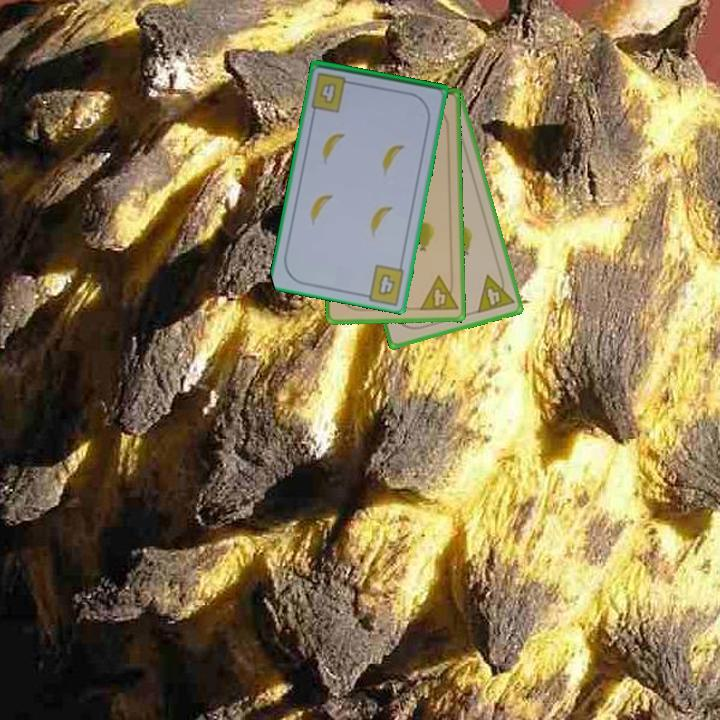4b: (308, 69, 357, 115), (375, 271, 398, 299)
4p: (473, 268, 517, 316), (416, 272, 461, 314)
